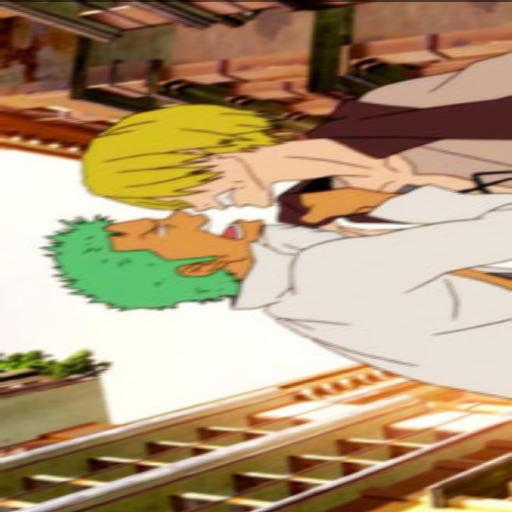Zoro: (30, 210, 272, 308)
sanji: (68, 98, 283, 211)
